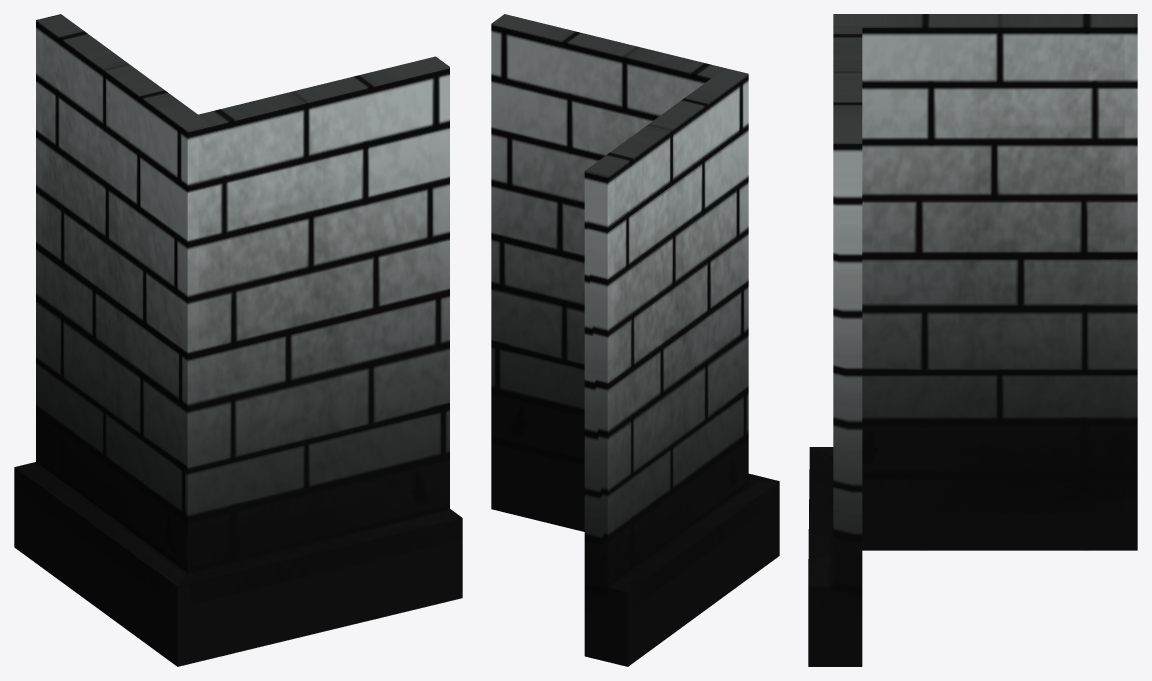
The model's file is corner_reverse.fbx.
3 views of the same model, side by side, from view 1: azimuth 30°, elevation 25°; view 2: azimuth 150°, elevation 25°; view 3: azimuth 270°, elevation 25° (orthographic). The views are drawn at different scales.
Visible parts, largest first — view 1: corner_reverse; view 2: corner_reverse; view 3: corner_reverse.
Part boxes in pixels (x1,y1,x2,y2): corner_reverse: [14, 14, 462, 666]; corner_reverse: [491, 14, 779, 666]; corner_reverse: [808, 14, 1137, 666].
Size of the model in its own units: 1.14 by 2 by 1.14.
1 material, 1 textured.
